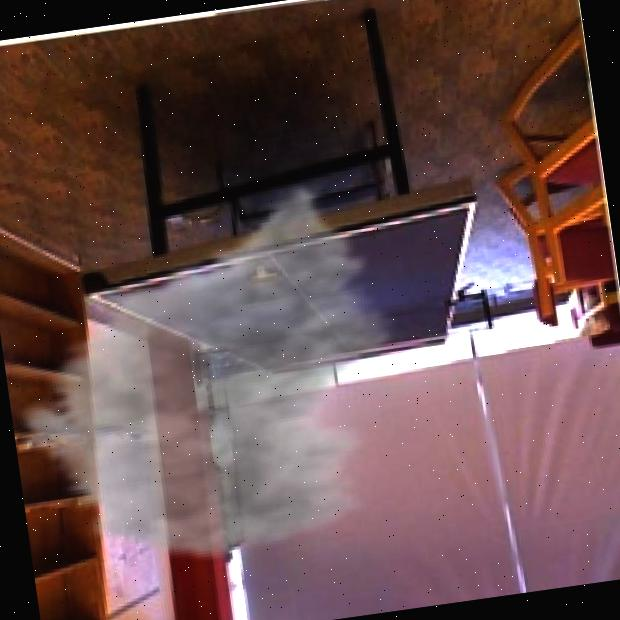smoke: (0, 168, 434, 589)
